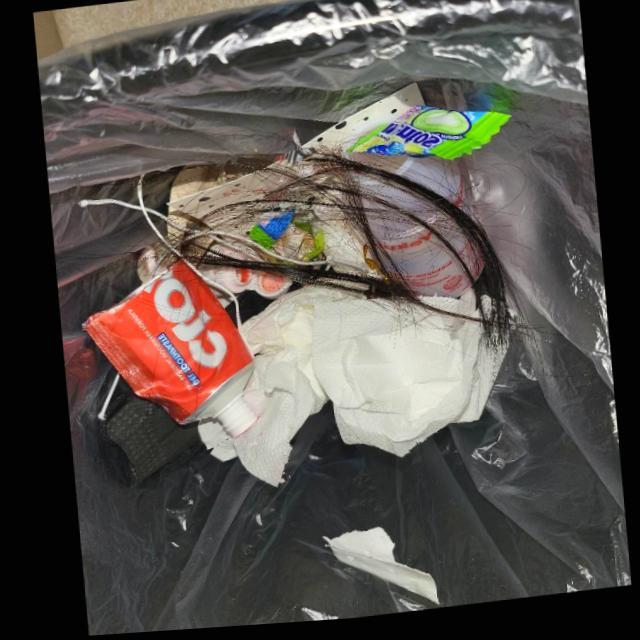paper: (193, 290, 489, 490), (163, 88, 424, 246)
plastic: (80, 260, 253, 440), (340, 155, 481, 304), (200, 244, 293, 305)
wrapper: (342, 109, 510, 165)
